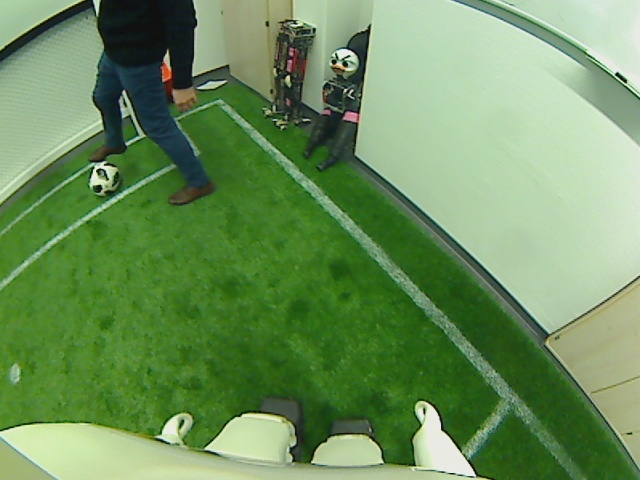ball: (86, 162, 123, 196)
